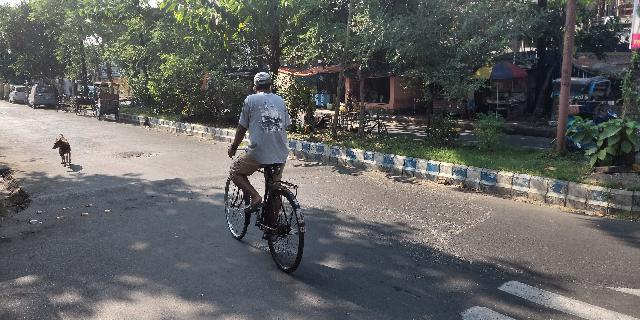Cycle: (212, 70, 331, 277)
